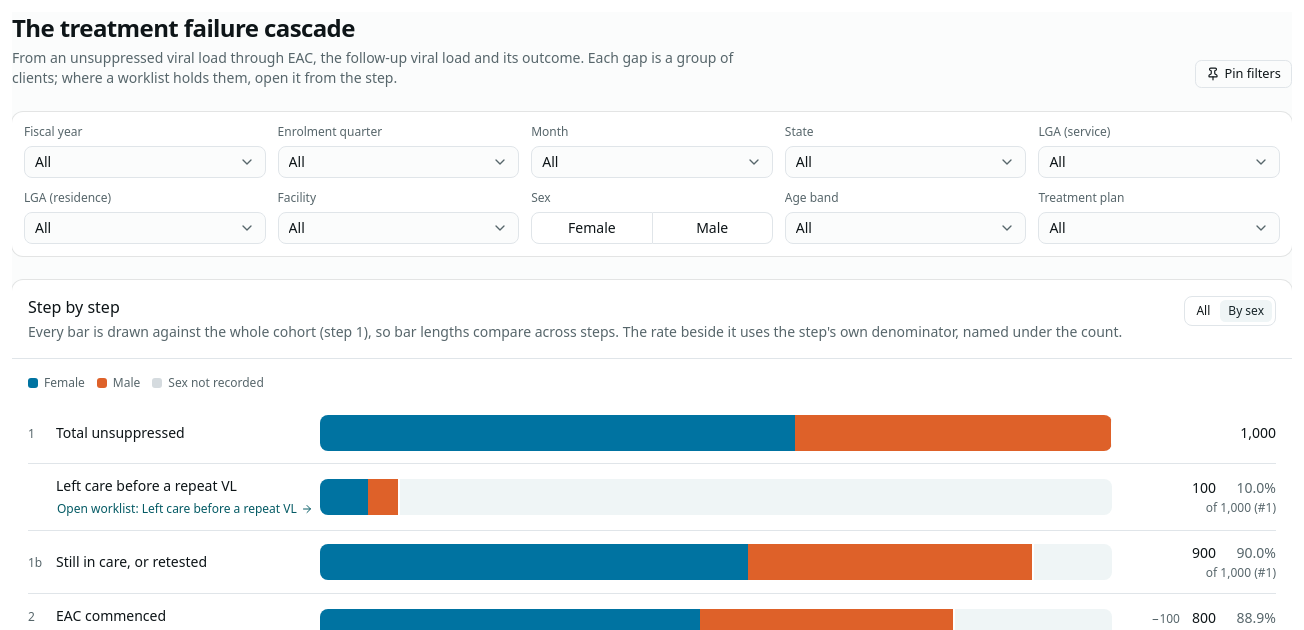
Test: Cascade page › stacks the bars by sex by default, with a legend, and can show the total only
Check: the text "Female" is shown, box [28, 375, 85, 391]
Check: the text "Male" is shown, box [97, 375, 140, 391]
Click the button "All" at x=1203, y=311, box [1188, 299, 1219, 323]
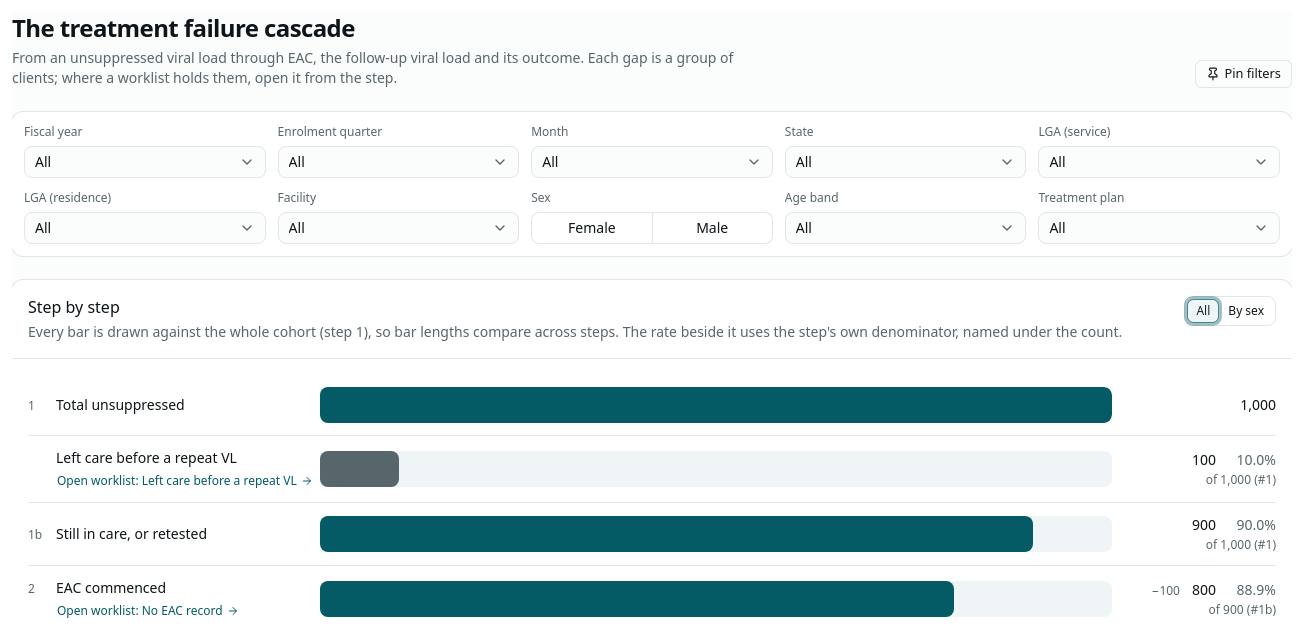
Check: the text "Sex not recorded" is gone
